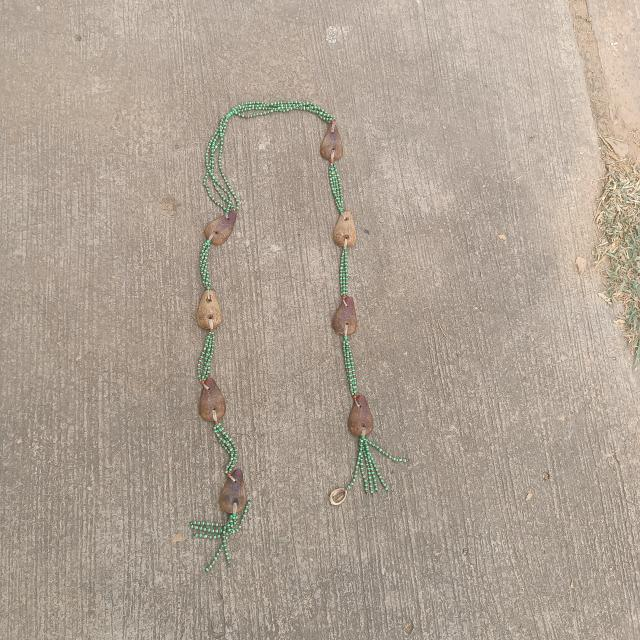facedown: (195, 372, 230, 428), (218, 462, 252, 518), (344, 390, 380, 441), (203, 201, 241, 248), (330, 287, 362, 342), (195, 286, 228, 336), (330, 204, 361, 254), (318, 115, 348, 164)
